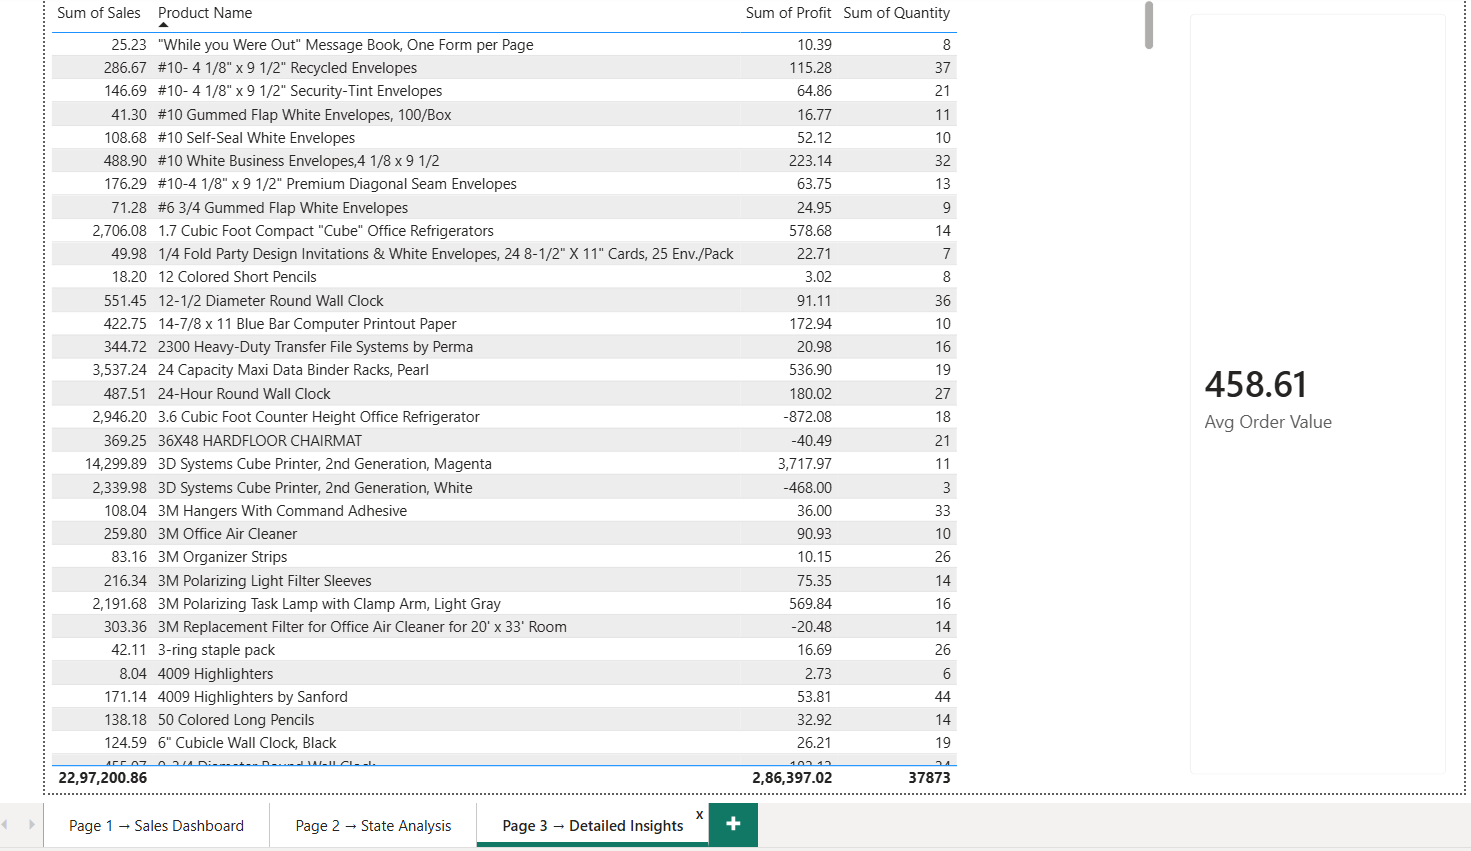

Layout of this report page (visuals, bound fields, positions):
{"tool":"powerbi","page":{"name":"Page 3 → Detailed Insights","canvas":[1280,720],"ordinal":2},"visuals":[{"type":"tableEx","fields":{"Values":["Sum(Sample - Superstore.Sales)","Sample - Superstore.Product Name","Sum(Sample - Superstore.Profit)","Sum(Sample - Superstore.Quantity)"]},"box":[0,0,1005.2,720.2],"z":3},{"type":"cardVisual","fields":{"Data":["Sample - Superstore.Avg Order Value"]},"box":[1015,0,265,720],"z":4}]}

Visuals, with their boxes on the page's 1280x720 design canvas (x1, y1, x2, y2). These are canvas units, not pixel positions in the 1471x851 screenshot, which may show the page scaled, cropped or inside an application window:
tableEx - Sum(Sample - Superstore.Sales) x Sample - Superstore.Product Name: bbox(0, 0, 1005, 720)
cardVisual - Sample - Superstore.Avg Order Value: bbox(1015, 0, 1280, 720)
